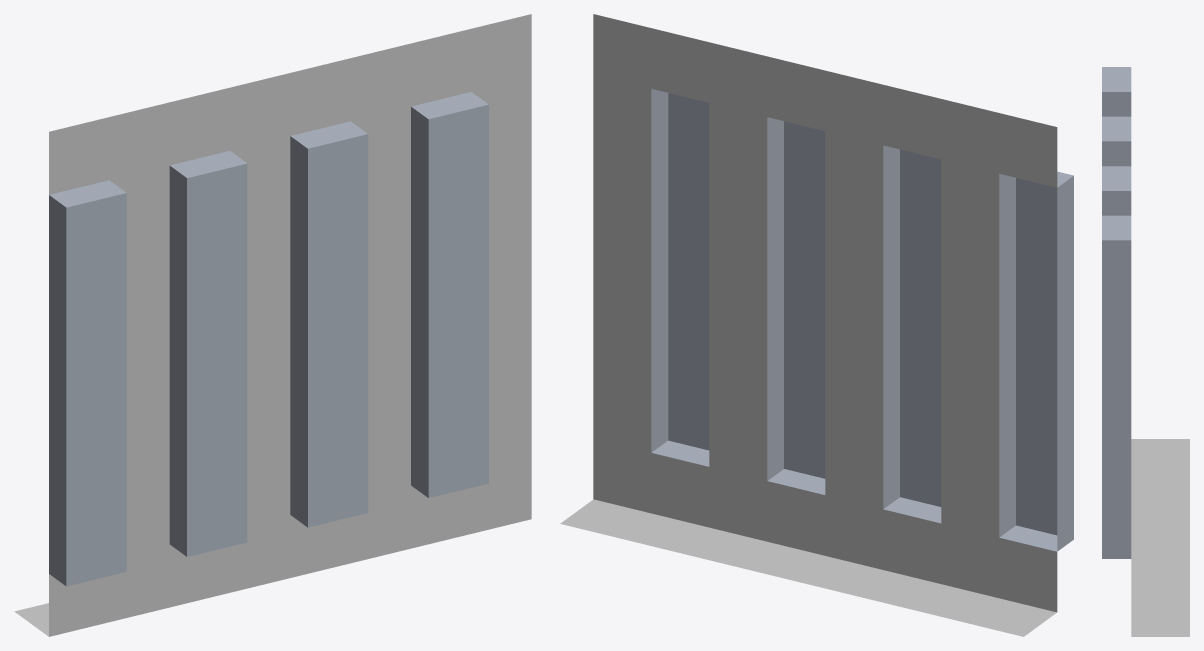
The model's file is cell_14.obj.
The picture shows the model from 3 angles, left to right: view 1: azimuth 30°, elevation 25°; view 2: azimuth 150°, elevation 25°; view 3: azimuth 270°, elevation 25°; orthographic projection. The views are drawn at different scales.
Size of the model in its own units: 1 by 1 by 0.1875.
